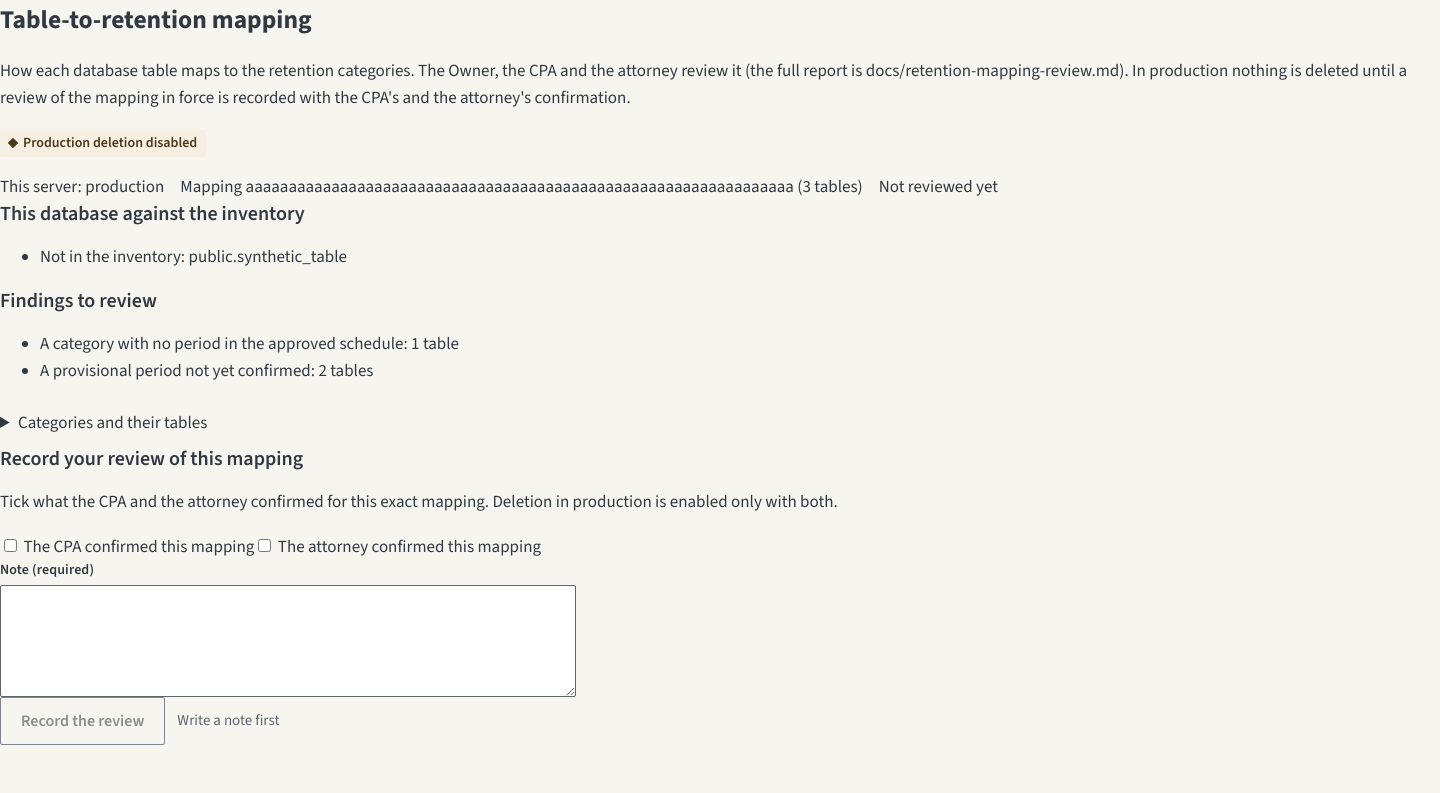
Test case: table-to-retention mapping review (TSK-0152, OWN-DEC-201 I5) › [HH-PRIV-01][OWN-DEC-201] shows deletion disabled, the findings and the live audit; records a review once
Expected: the text "Production deletion disabled" is shown, [0,130,206,157]
Expected: the list item "Not reviewed yet" is shown, [879,174,998,201]
Step 1. Click the checkbox labelled "The CPA confirmed this mapping" → (10, 545), box [4,539,17,552]
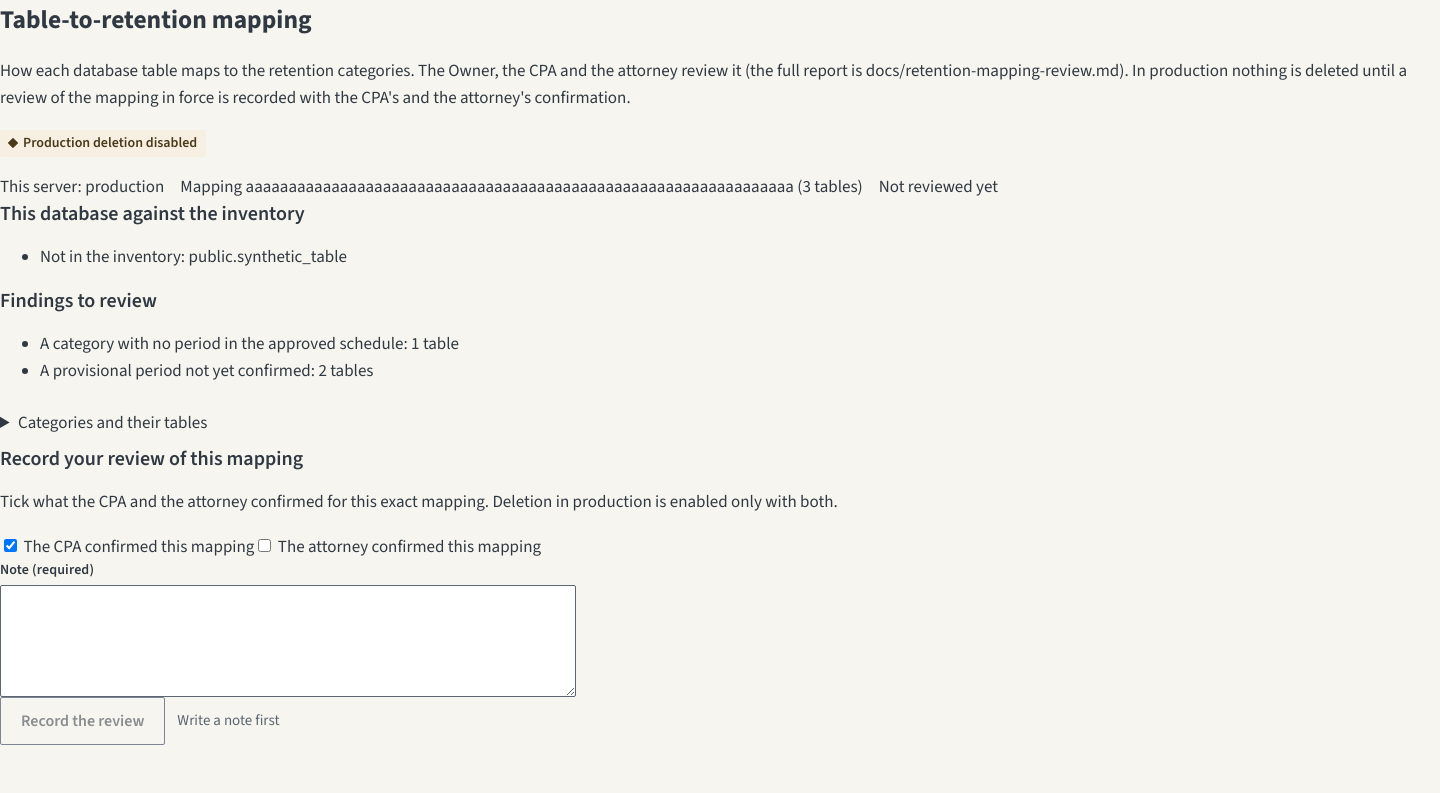
Step 2. Click the checkbox labelled "The attorney confirmed this mapping" → (265, 545), box [258,539,271,552]
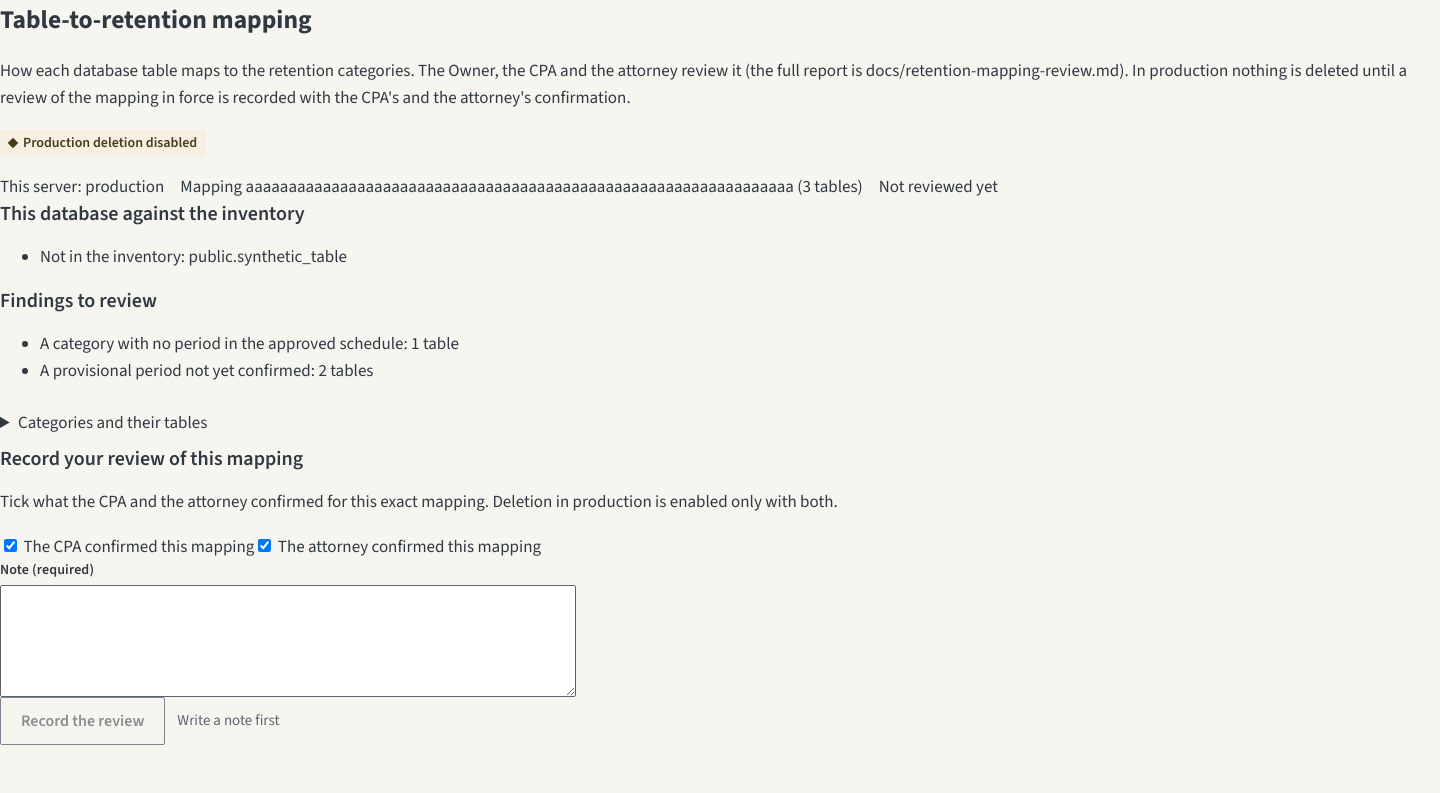
Step 3. Type "Synthetic review" into the text box labelled "Note (required)" → (288, 641), box [0,585,576,697]
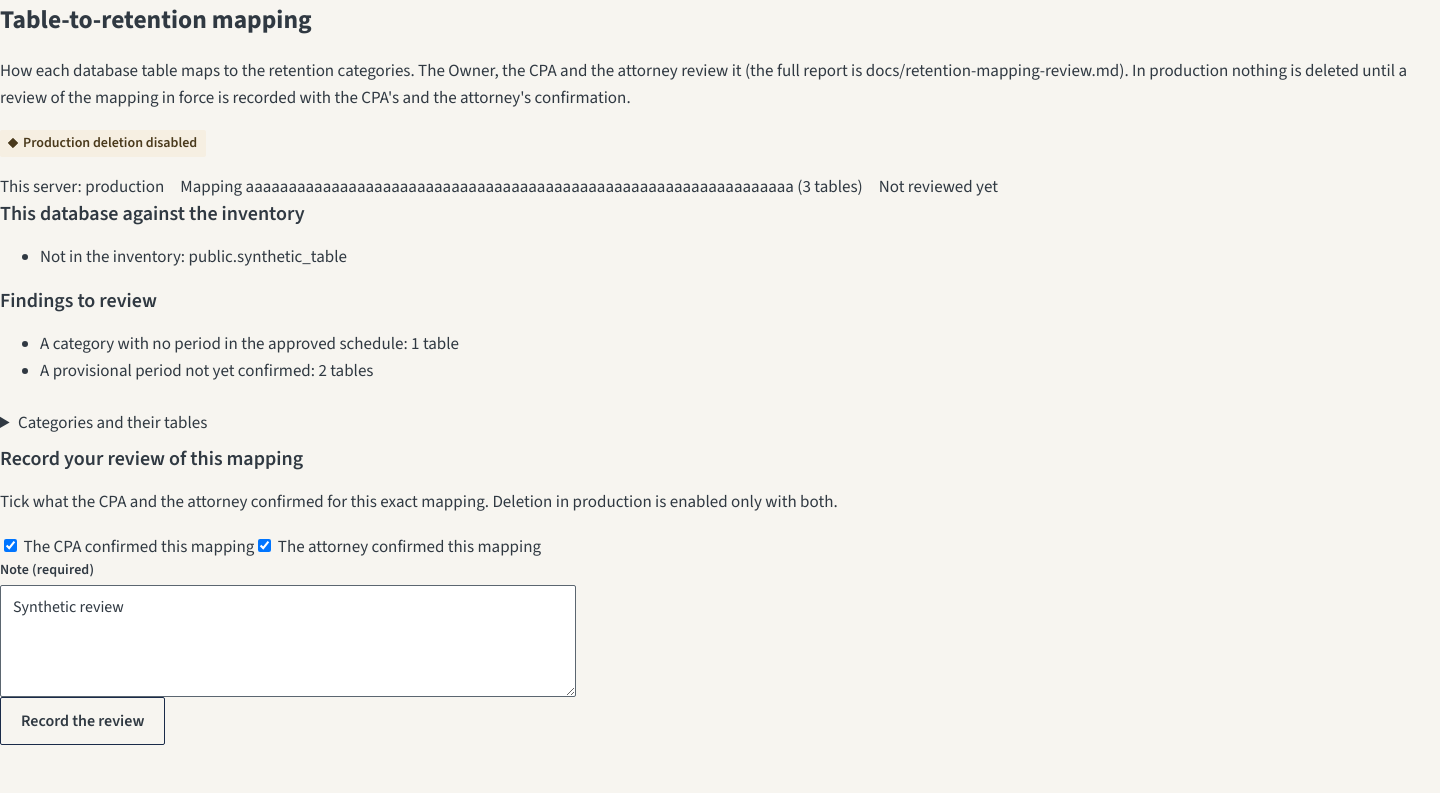
Step 4. Click the button "Record the review" → (83, 721), box [0,697,165,745]
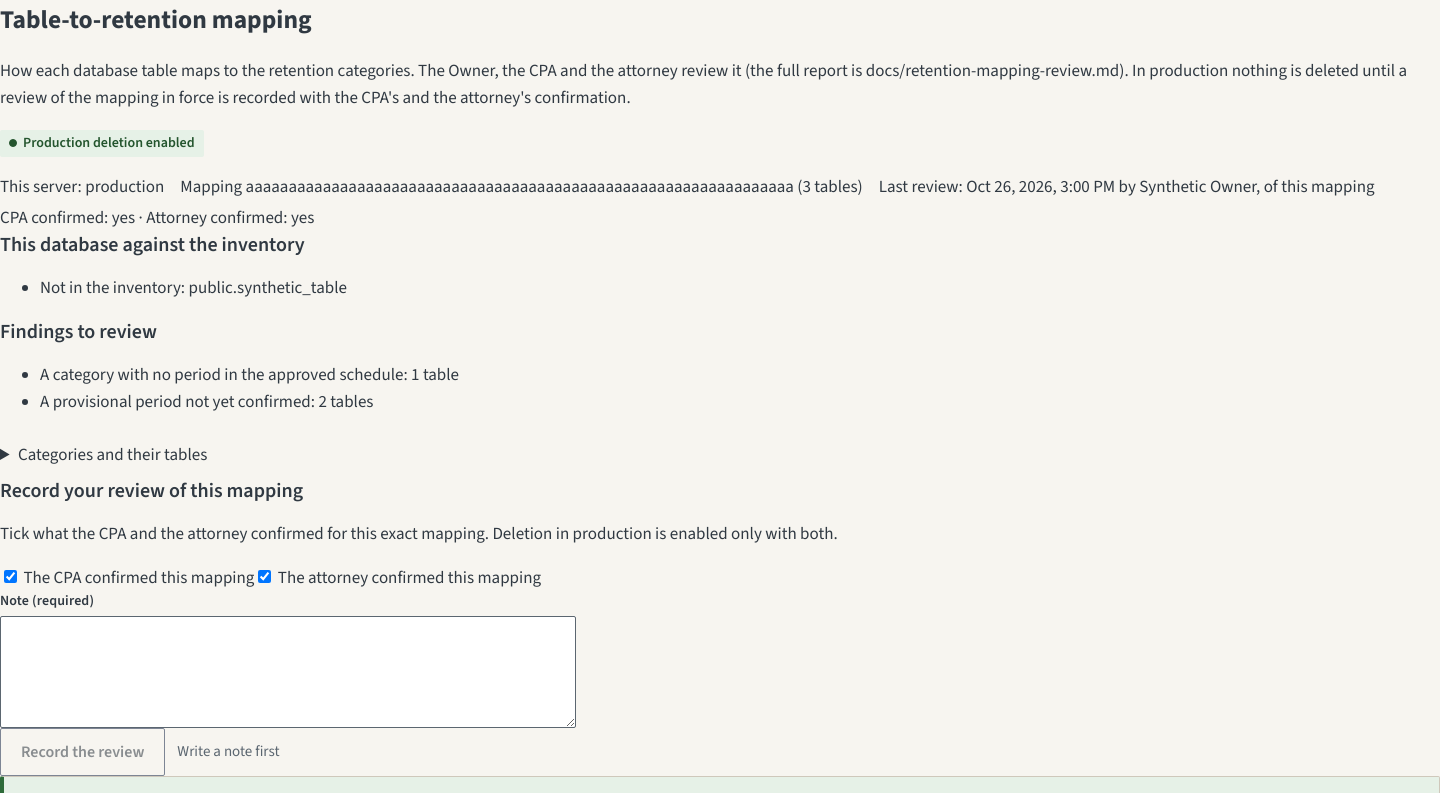
Now the text "Production deletion enabled" is shown, box [0,130,204,157]
